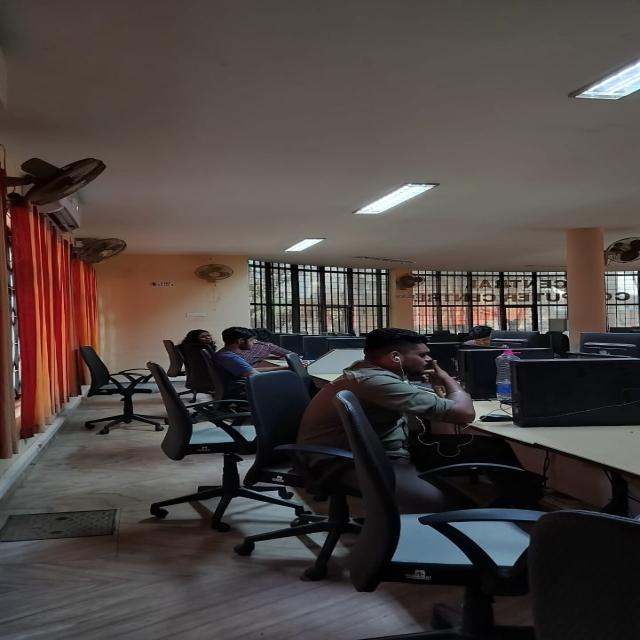chair ahead at: (318, 392, 562, 599)
